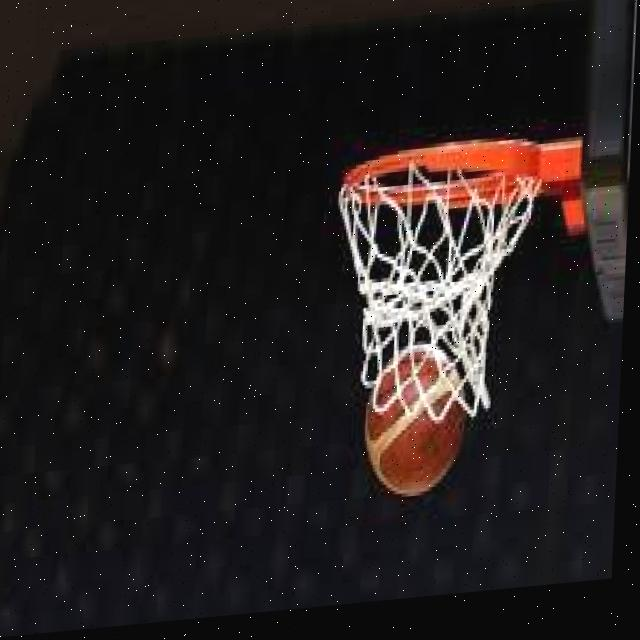basketball: (358, 340, 472, 504)
hoop: (325, 126, 544, 504), (329, 130, 542, 424)
